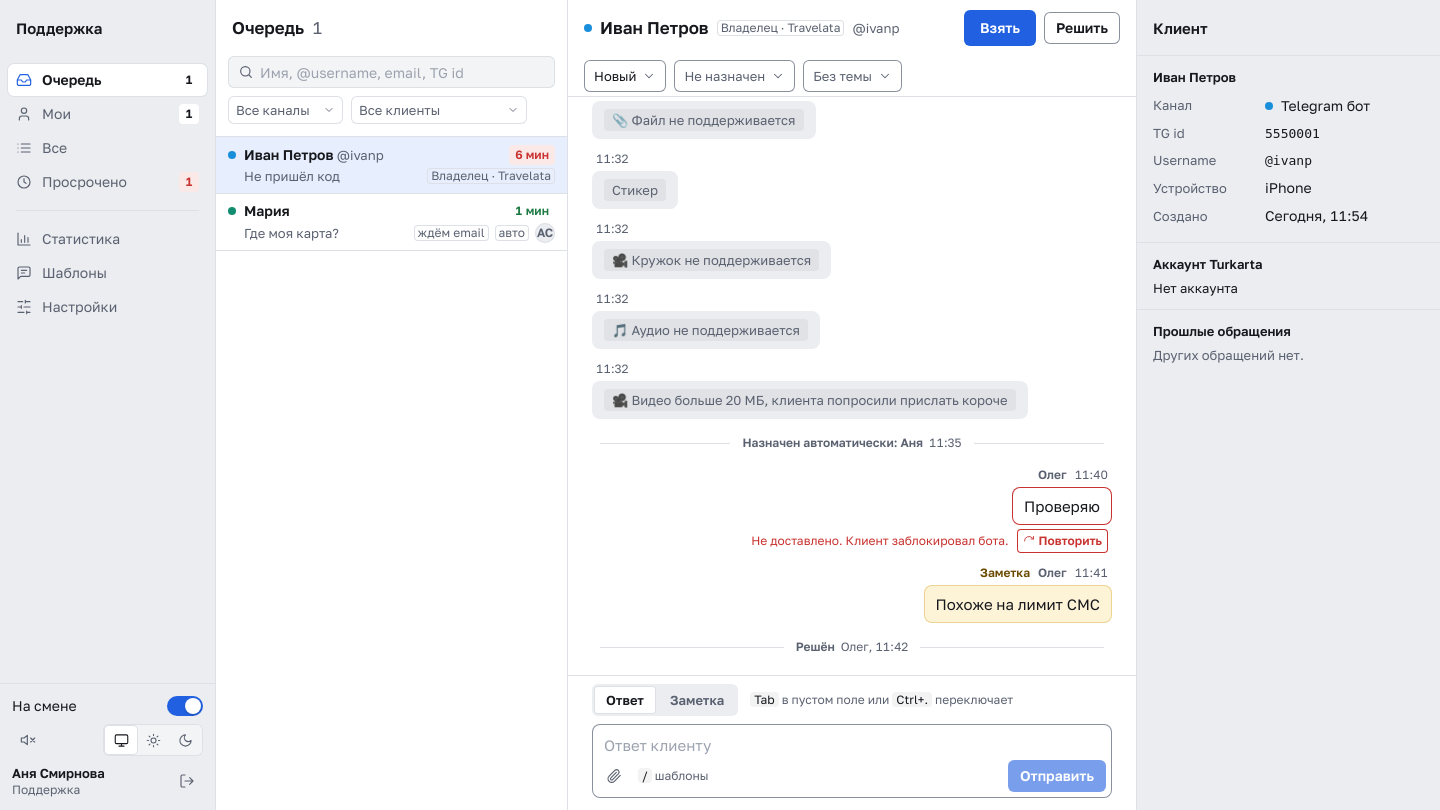
it: Inbox › shows «Нет аккаунта» and copies the TG id with a toast
(page scrolled)
Expected: the text "Нет аккаунта" is shown, [1153, 280, 1238, 296]
Click the button named "5550001. Скопировать TG id": [1302, 134] box [1261, 125, 1343, 143]
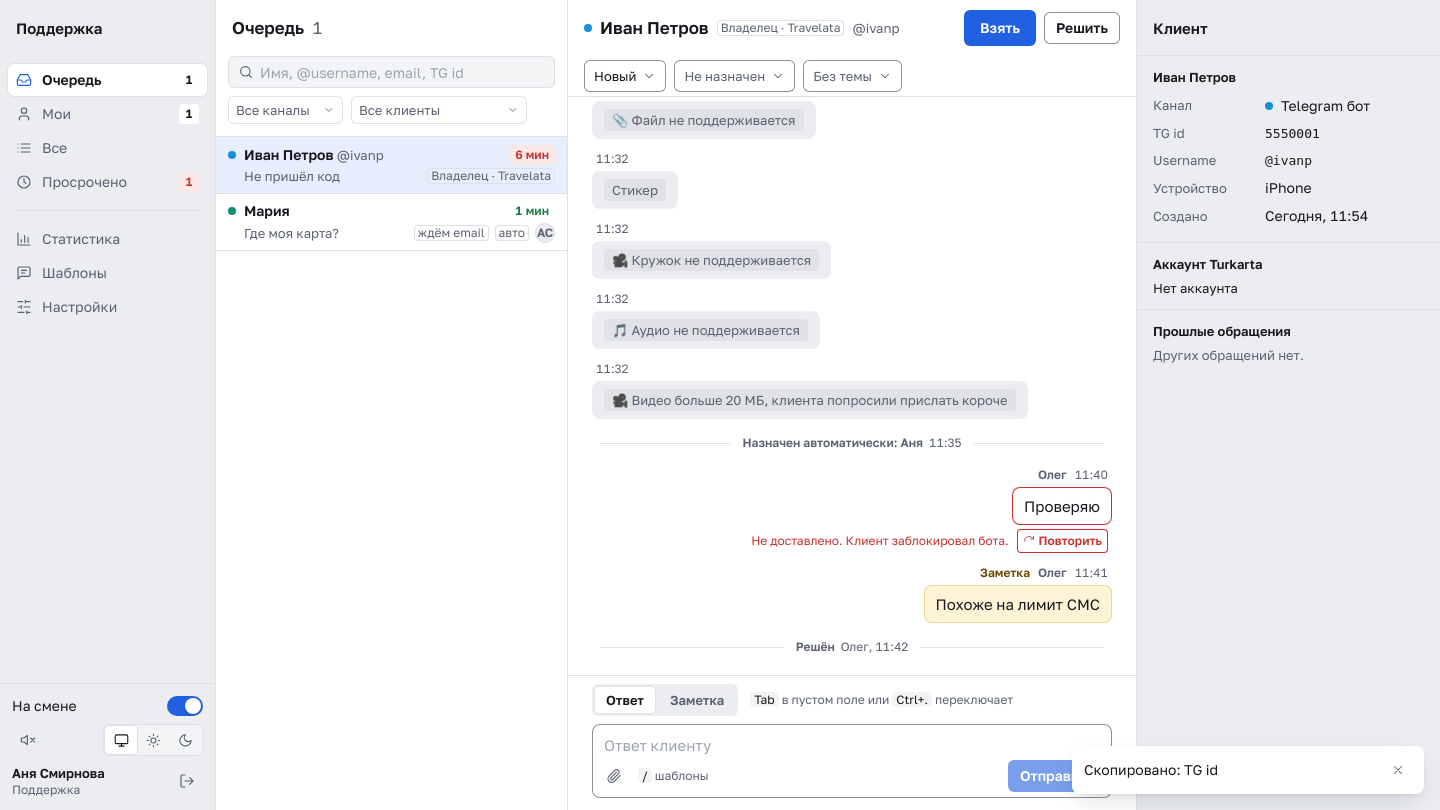
Result: the text "Скопировано: TG id" is shown at [1084, 761, 1218, 778]
